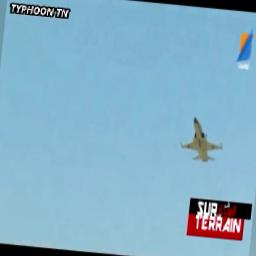Airplane: (178, 116, 225, 164)
